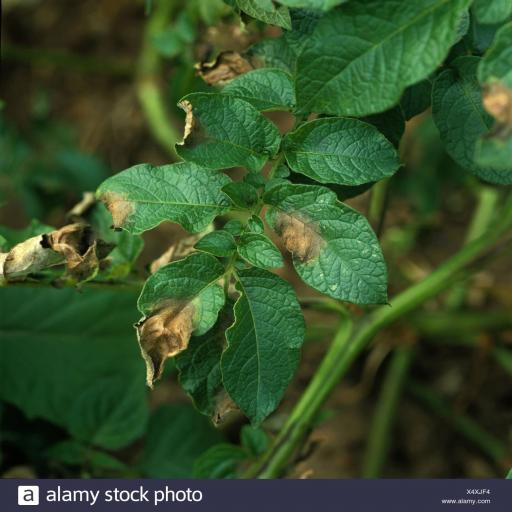Late Blight: (259, 180, 397, 311), (131, 250, 236, 390), (97, 158, 234, 240), (172, 89, 282, 173)
